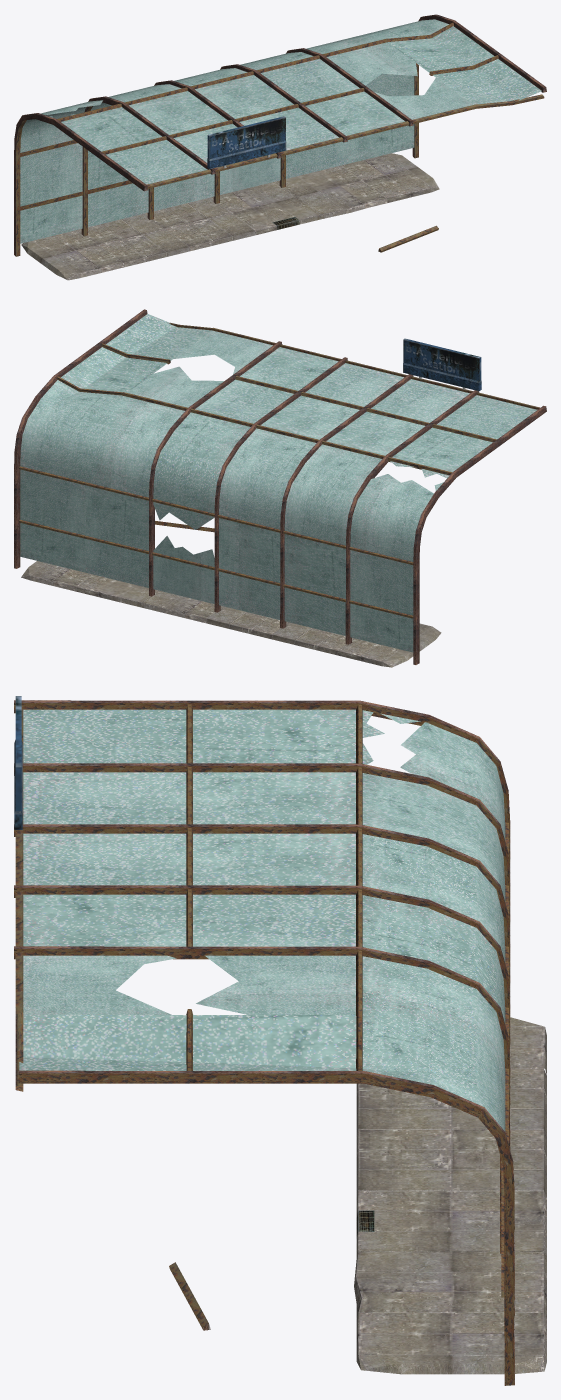
Rendered from BusStation_Parts.fbx.
3 views of the same model, one above another, from view 1: azimuth 30°, elevation 25°; view 2: azimuth 150°, elevation 25°; view 3: azimuth 270°, elevation 25° (orthographic). The views are drawn at different scales.
Parts seen in each view (by area): view 1: BusStation_Part_6, BusStation_Part_5, BusStation_Part_3, BusStation_Part_2, BusStation_Part_4, BusStation_Part_1, BusStation_Part_8, BusStation_Part_0, BusStation_Part_7; view 2: BusStation_Part_5, BusStation_Part_4, BusStation_Part_2, BusStation_Part_6, BusStation_Part_3, BusStation_Part_1, BusStation_Part_7, BusStation_Part_8, BusStation_Part_0; view 3: BusStation_Part_2, BusStation_Part_3, BusStation_Part_4, BusStation_Part_5, BusStation_Part_6, BusStation_Part_1, BusStation_Part_0, BusStation_Part_7, BusStation_Part_8.
Boxes of the visible parts, x1,y1,x2,y2 form: BusStation_Part_6: (14,100,211,256); BusStation_Part_5: (78,84,286,267); BusStation_Part_3: (210,52,409,234); BusStation_Part_2: (276,35,478,252); BusStation_Part_4: (144,68,343,251); BusStation_Part_1: (348,19,544,163); BusStation_Part_8: (21,230,123,280); BusStation_Part_0: (342,153,439,202); BusStation_Part_7: (412,14,546,158); BusStation_Part_5: (272,338,481,655); BusStation_Part_4: (206,360,413,639); BusStation_Part_2: (75,327,282,607); BusStation_Part_6: (349,392,546,664); BusStation_Part_3: (140,344,347,623); BusStation_Part_1: (18,314,211,572); BusStation_Part_7: (14,309,147,568); BusStation_Part_8: (337,623,441,667); BusStation_Part_0: (21,561,91,591); BusStation_Part_2: (14,946,546,1330); BusStation_Part_3: (14,885,546,1258); BusStation_Part_4: (14,824,546,1197); BusStation_Part_5: (14,696,546,1136); BusStation_Part_6: (14,700,510,882); BusStation_Part_1: (15,1009,508,1297); BusStation_Part_0: (356,1313,546,1374); BusStation_Part_7: (18,1070,514,1385); BusStation_Part_8: (510,1017,546,1075).
Size of the model in its own units: 1839 by 862 by 1106.
